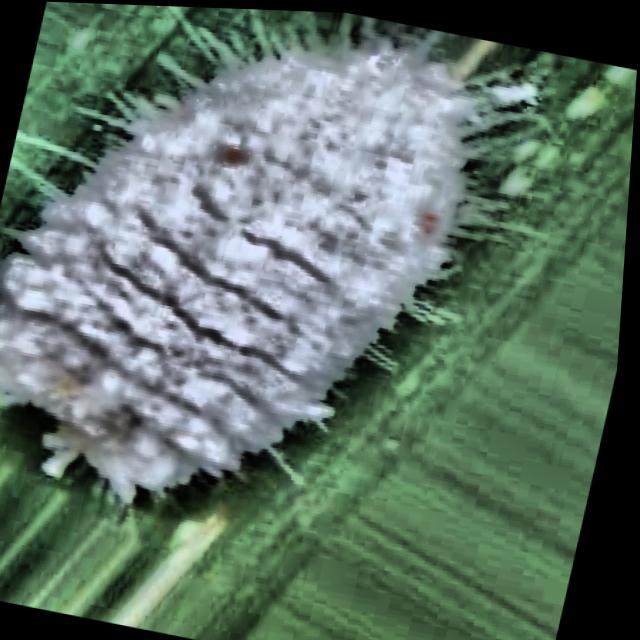Mealy-bug: (0, 0, 558, 640)
